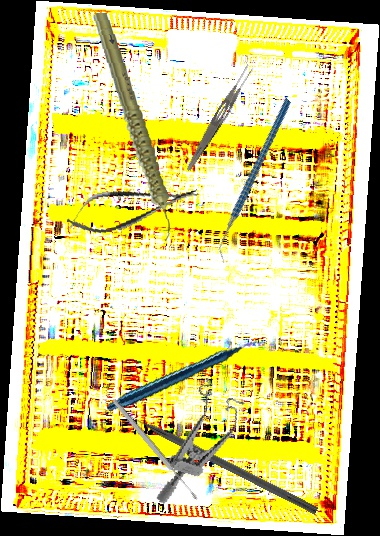Chopper: (173, 97, 337, 264)
Dressing Forceps: (183, 62, 257, 175)
Handpiece: (106, 312, 266, 441), (91, 8, 175, 246)
Hook Surgical: (121, 406, 320, 515)
Micro Scissor: (63, 174, 202, 241)
Speculum: (154, 372, 250, 519)
Surgical Spoon: (110, 397, 200, 502)
